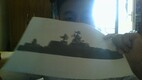tau_muctieu: (22, 31, 123, 61)
